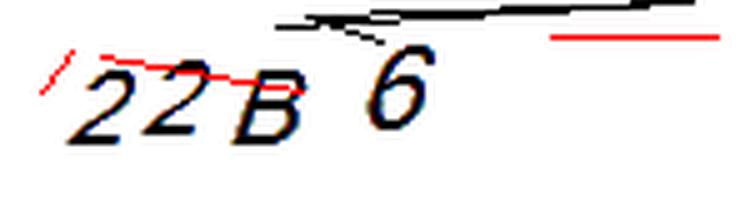2: (137, 55, 218, 142), (62, 66, 137, 150)
6: (357, 40, 448, 134)
B: (226, 66, 312, 150)
